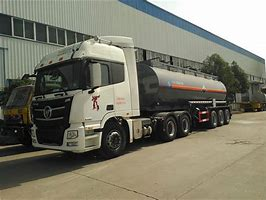oil truck: (28, 31, 236, 157)
